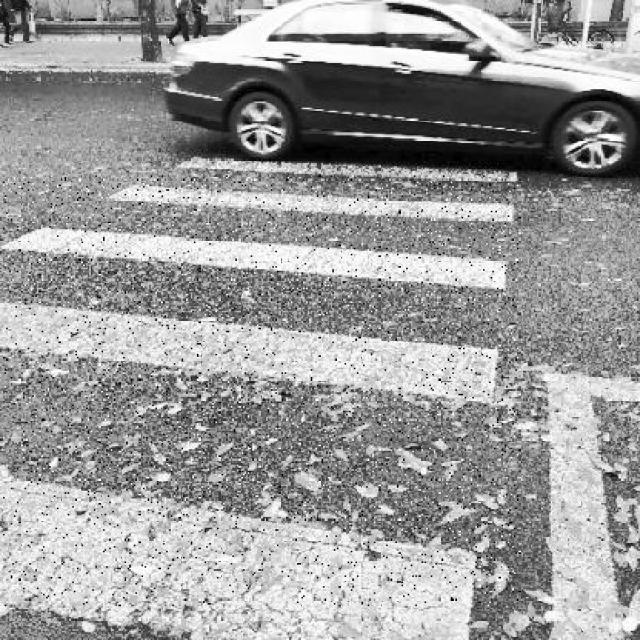intact_crosswalk: (0, 152, 524, 640)
